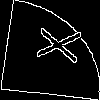X: (25, 24, 82, 65)
